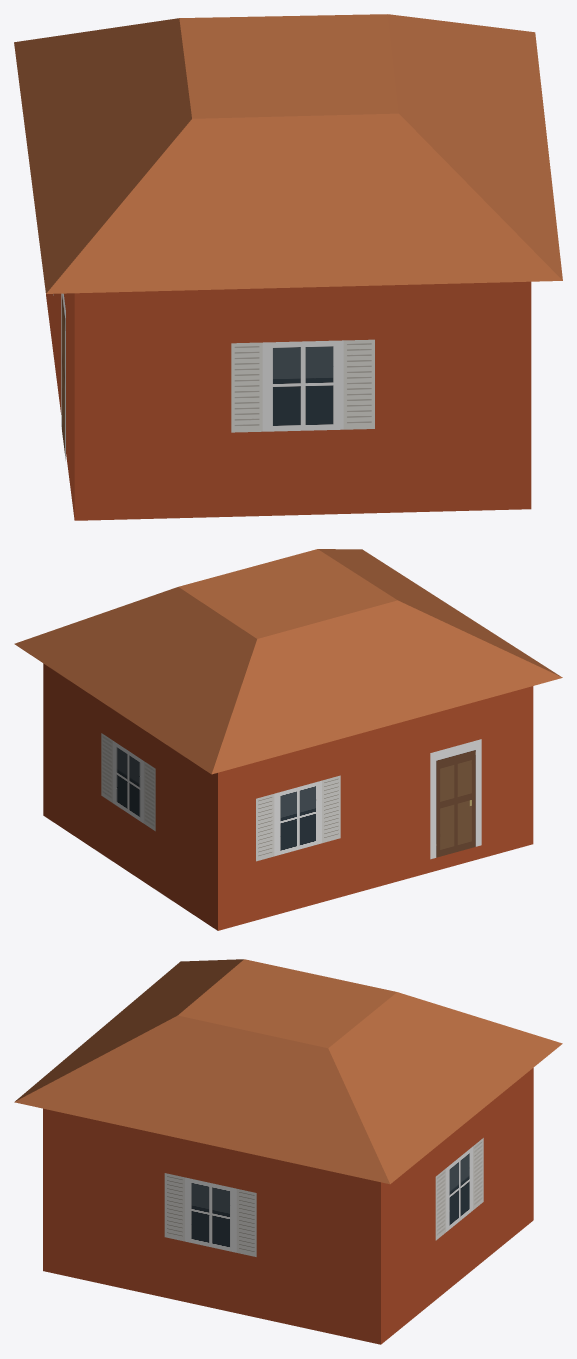
Rendered from msb_sannicolas_12_24.glb.
The picture shows the model from 3 angles, top to bottom: view 1: azimuth 30°, elevation 25°; view 2: azimuth 150°, elevation 25°; view 3: azimuth 270°, elevation 25°; orthographic projection. The views are drawn at different scales.
Parts seen in each view (by area): view 1: msb_sannicolas_12_24_lod0; view 2: msb_sannicolas_12_24_lod0; view 3: msb_sannicolas_12_24_lod0.
Part boxes in pixels (<box>): msb_sannicolas_12_24_lod0: <box>14,14,562,520</box>; msb_sannicolas_12_24_lod0: <box>14,549,562,930</box>; msb_sannicolas_12_24_lod0: <box>14,959,562,1344</box>.
Size of what is drawn, in the model's own units: 9.68 by 4.9 by 10.08.
Materials: 2 (1 with a texture image).
